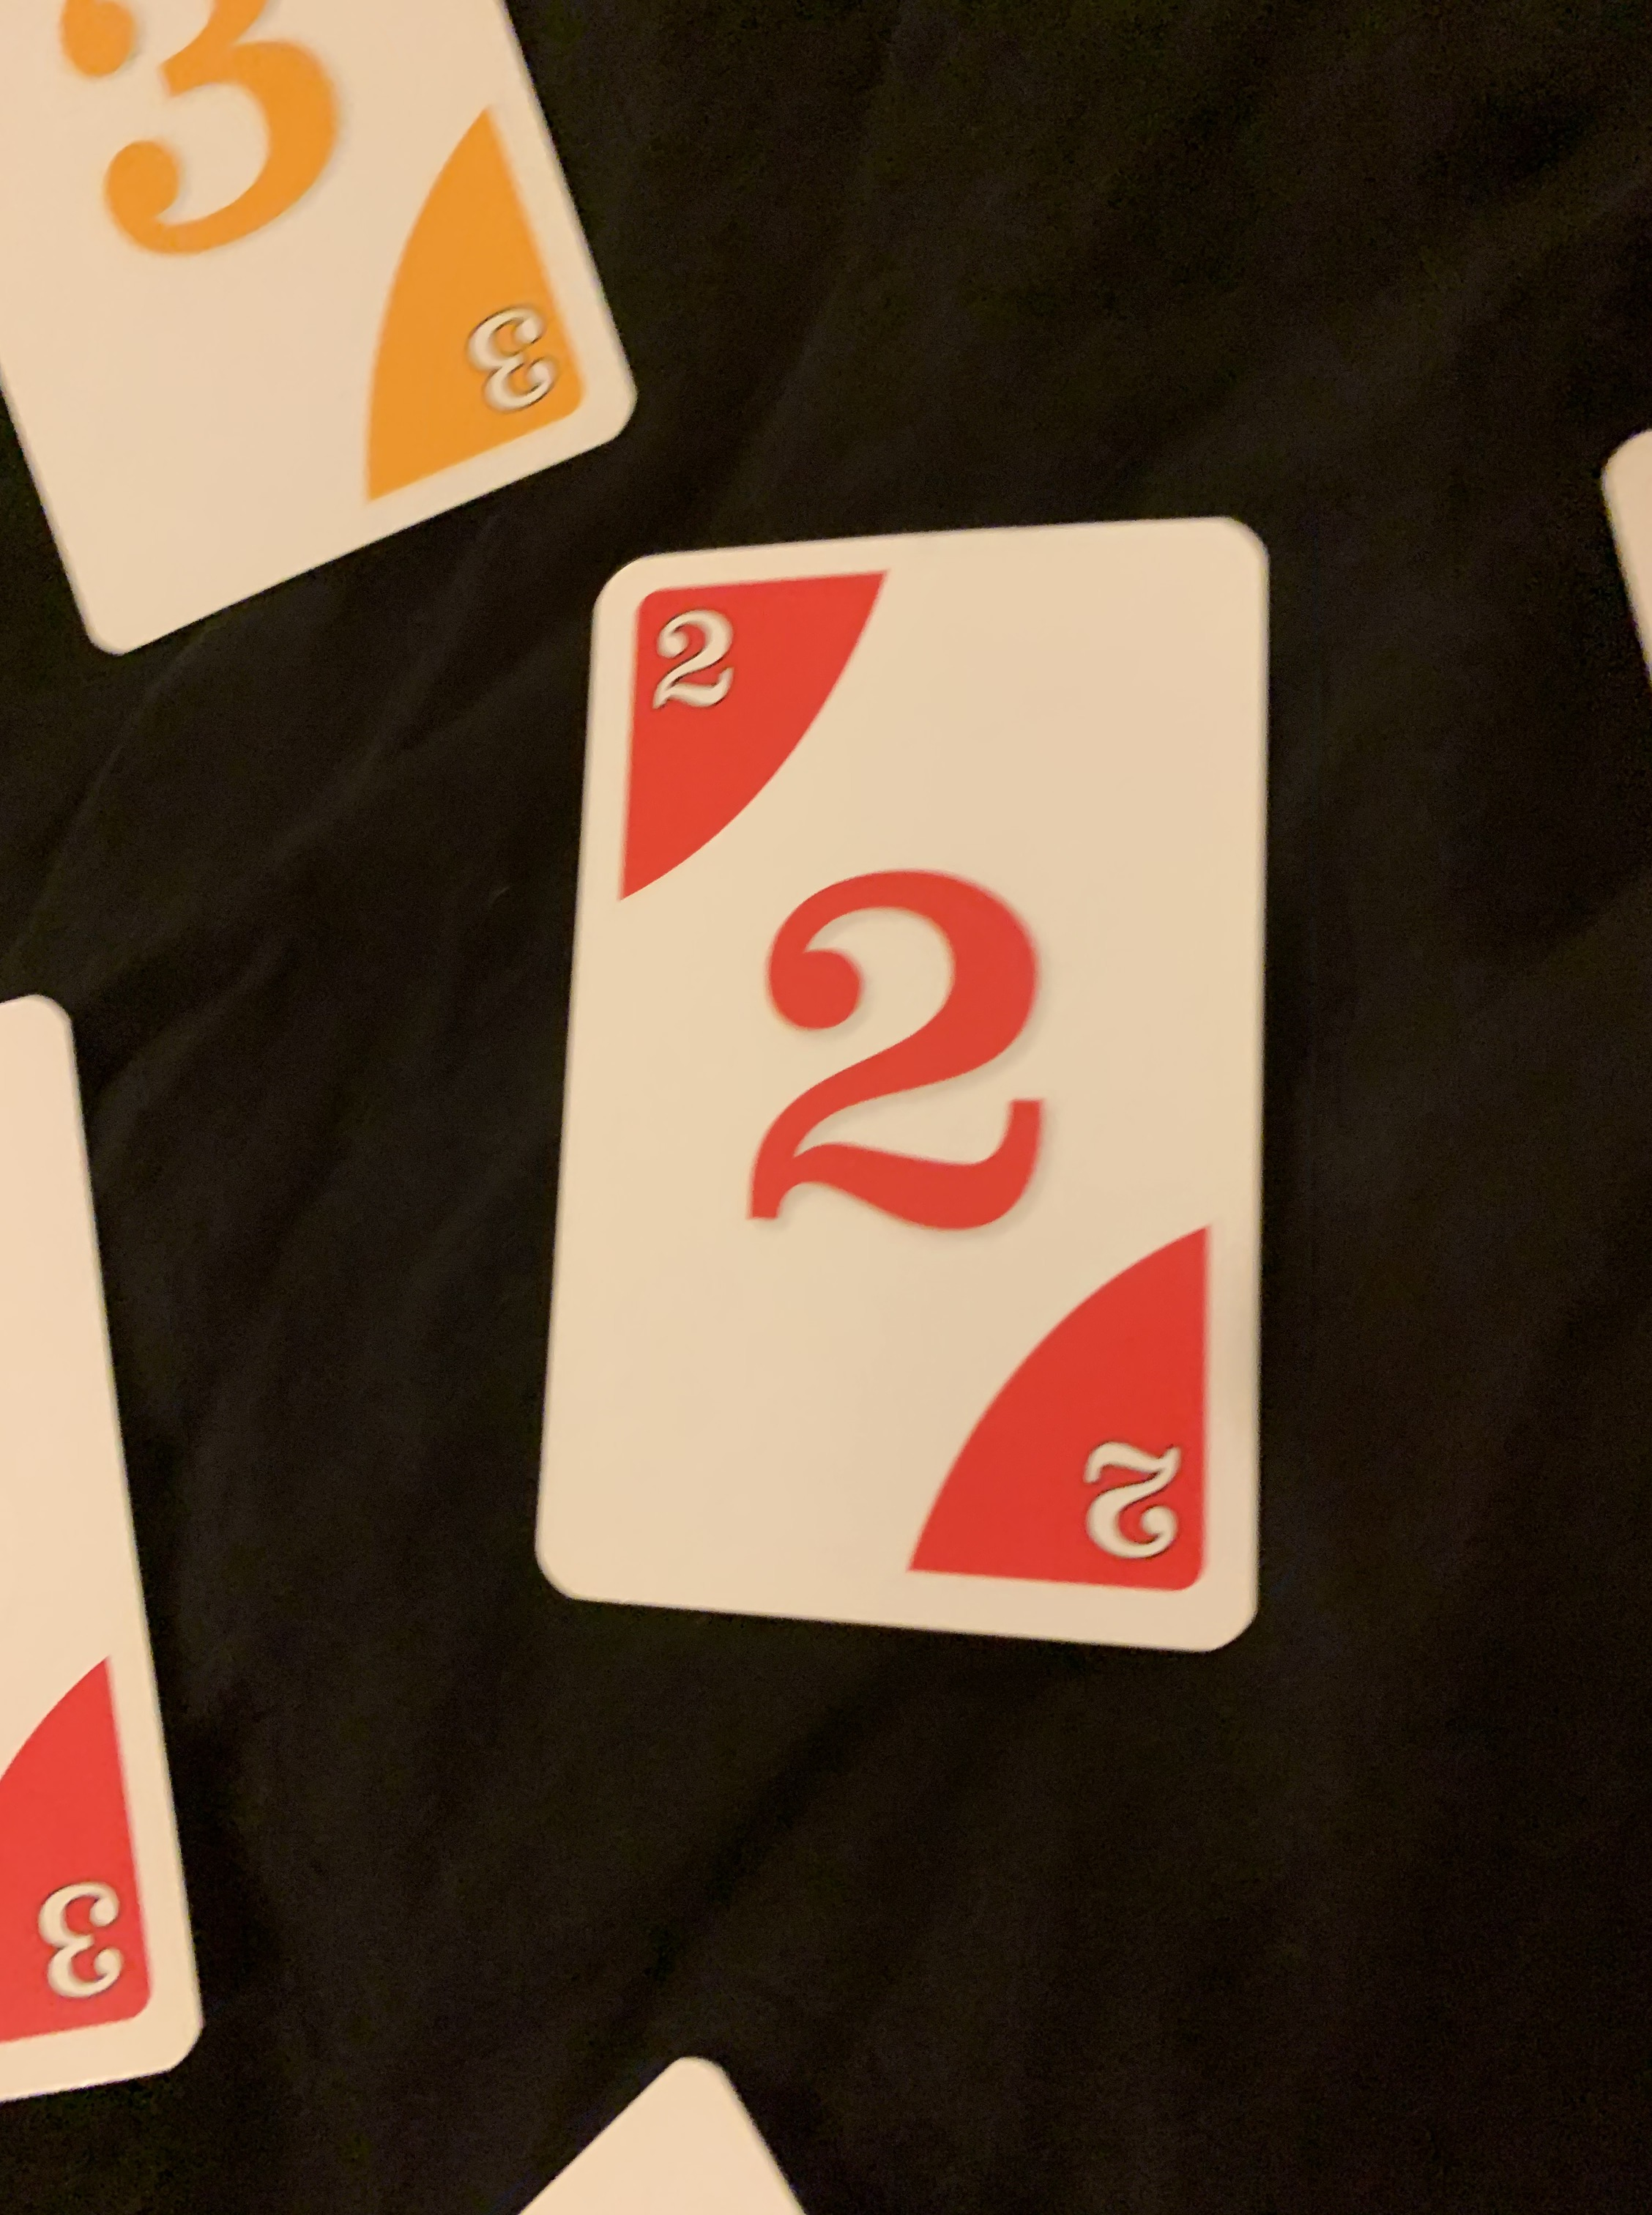three: (5, 0, 628, 663)
two: (515, 514, 1268, 1658)
